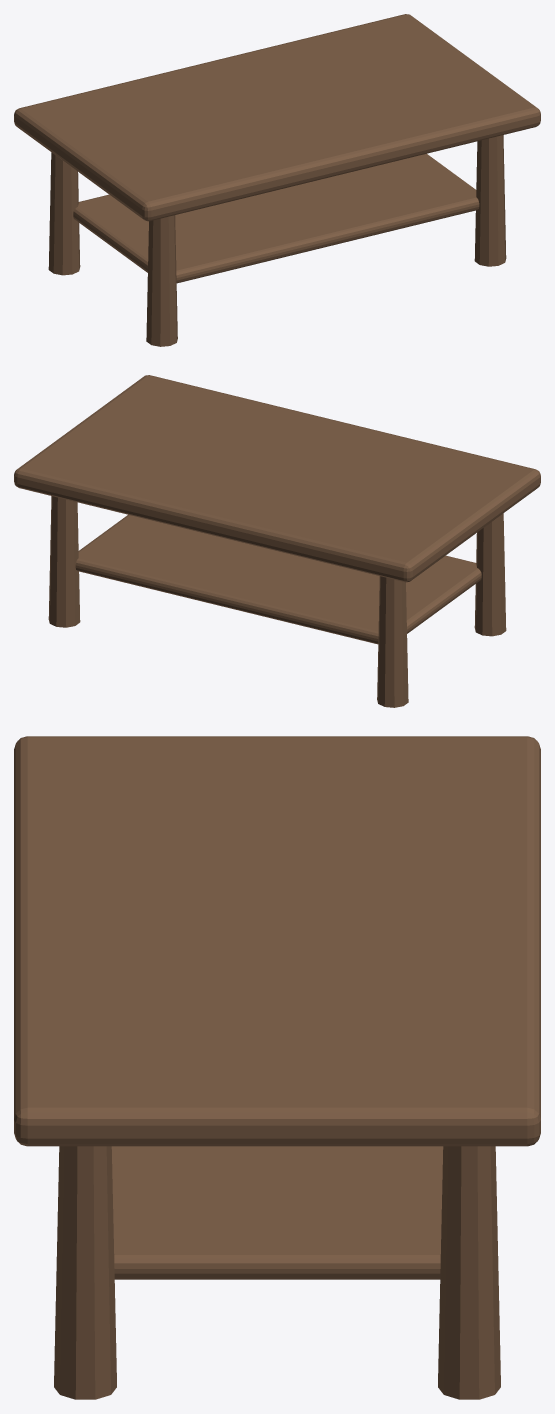
File: oakwood-coffee-table.glb
3 views of the same model, one above another, from view 1: azimuth 30°, elevation 25°; view 2: azimuth 150°, elevation 25°; view 3: azimuth 270°, elevation 25° (orthographic). The views are drawn at different scales.
Visible parts, largest first — view 1: table.top, table.shelf, table.leg, table.leg.002, table.leg.001; view 2: table.top, table.shelf, table.leg.001, table.leg.003, table.leg; view 3: table.top, table.shelf, table.leg.003, table.leg.002.
Part boxes in pixels (x1,y1,x2,y2): table.top: (14, 14, 540, 221); table.shelf: (73, 153, 479, 283); table.leg: (146, 215, 177, 346); table.leg.002: (474, 135, 506, 266); table.leg.001: (48, 152, 80, 275); table.top: (14, 375, 540, 582); table.shelf: (75, 514, 481, 644); table.leg.001: (377, 576, 408, 707); table.leg.003: (48, 496, 80, 627); table.leg: (474, 513, 506, 636); table.top: (14, 736, 540, 1146); table.shelf: (111, 1146, 443, 1279); table.leg.003: (438, 1146, 500, 1399); table.leg.002: (54, 1146, 116, 1399).
Size of the model in its own units: 1.2 by 0.45 by 0.7.
